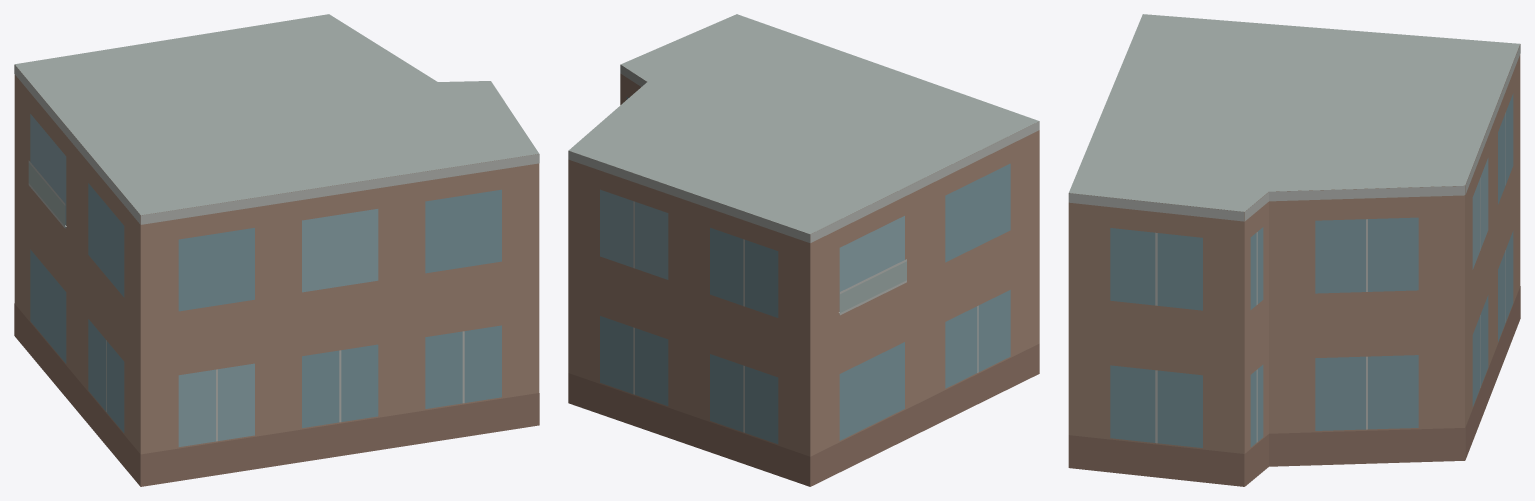
File: survey-upis-32515102.glb
3 views of the same model, side by side, from view 1: azimuth 30°, elevation 25°; view 2: azimuth 150°, elevation 25°; view 3: azimuth 270°, elevation 25° (orthographic). The views are drawn at different scales.
Parts seen in each view (by area): view 1: survey-upis-32515102.tmp; view 2: survey-upis-32515102.tmp; view 3: survey-upis-32515102.tmp.
Part boxes in pixels (x1=…): survey-upis-32515102.tmp: x1=14, y1=14, x2=539, y2=486; survey-upis-32515102.tmp: x1=568, y1=14, x2=1039, y2=486; survey-upis-32515102.tmp: x1=1068, y1=14, x2=1520, y2=486.
Size of the model in its own units: 10.66 by 6.9 by 10.28.
